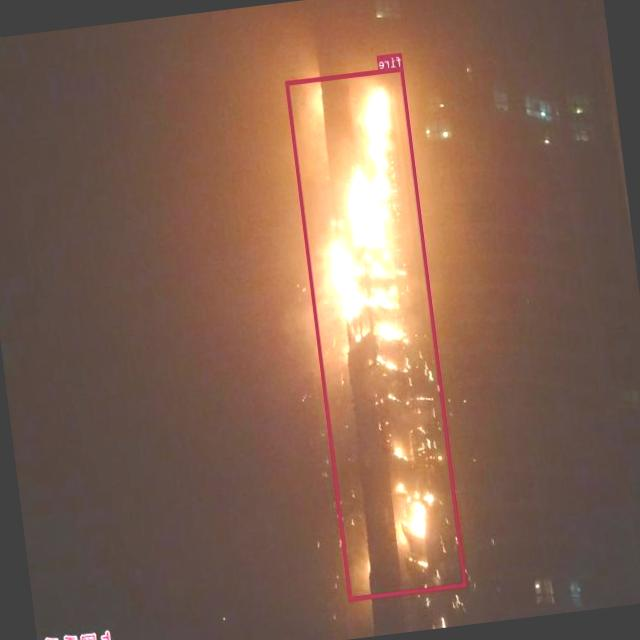fire: (286, 66, 467, 600)
